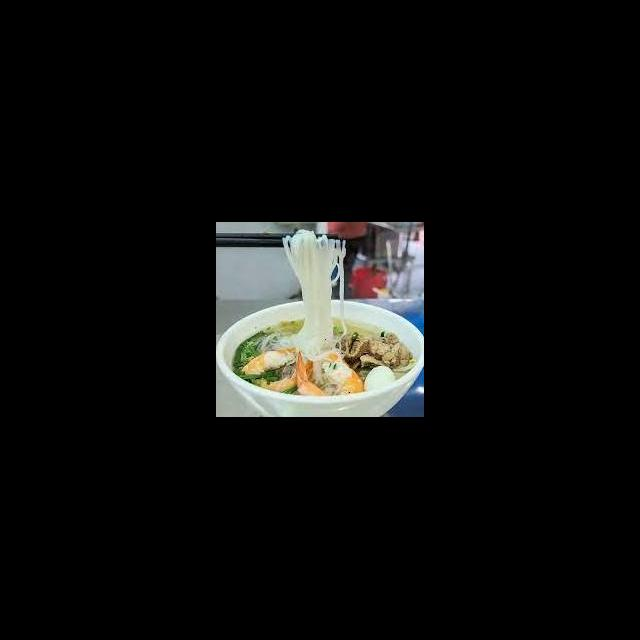banh hu tieu: (274, 228, 352, 364)
hu tieu: (216, 231, 419, 418)
tom: (293, 348, 366, 404), (238, 346, 316, 398)
trung: (362, 364, 397, 396)
